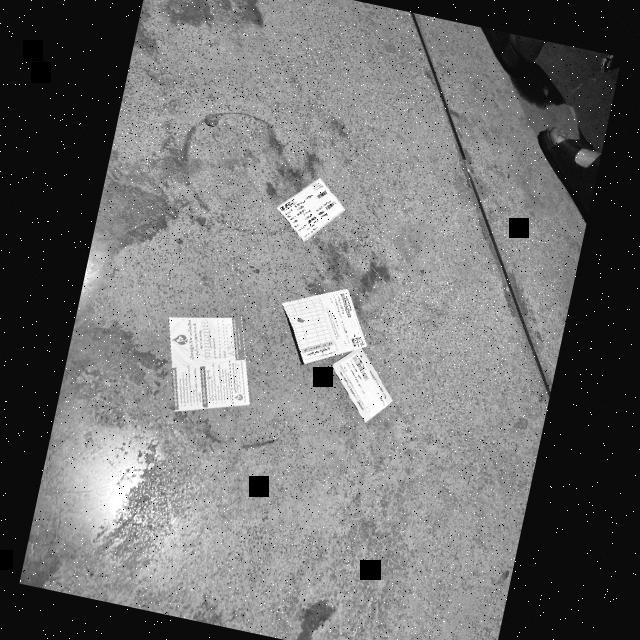scrap_paper: (150, 304, 262, 421), (264, 275, 380, 378), (258, 165, 357, 257), (320, 342, 410, 429)
